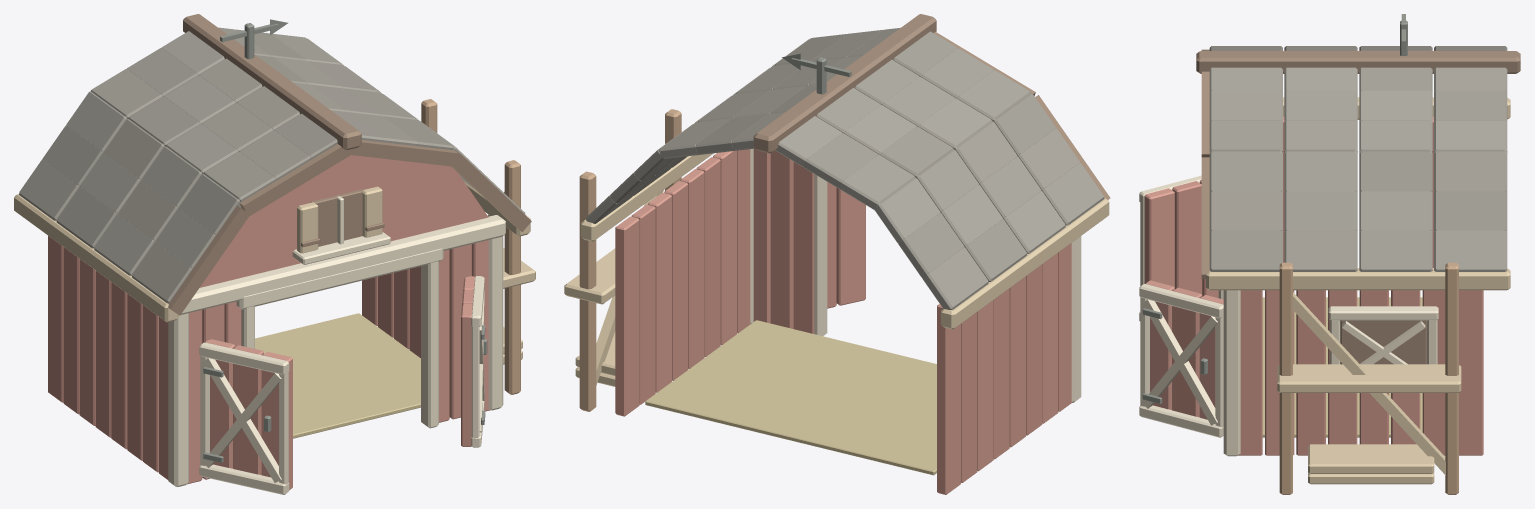
File: crafted-barn-upgrading-front.glb
3 views of the same model, side by side, from view 1: azimuth 30°, elevation 25°; view 2: azimuth 150°, elevation 25°; view 3: azimuth 270°, elevation 25° (orthographic). The views are drawn at different scales.
Visible parts, largest first — view 1: gable-1, hay-floor, header-1, ridge-cap, corner-post-1, scaffold-post-1, eave-fascia, door-frame-1, corner-post-3, door-top, siding-12, siding-15 (+69 smaller); view 2: hay-floor, siding-19, ridge-cap, siding-31, siding-11, scaffold-post, siding-30, eave-fascia, siding-20, siding-21, siding-22, siding-23 (+54 smaller); view 3: ridge-cap, eave-fascia-1, scaffold-platform, siding-19, siding-26, extension-planks-2, siding-24, roof-tile-45, roof-tile-47, roof-tile-37, roof-tile-38, roof-tile-39 (+49 smaller).
Boxes of the visible parts, x1,y1,x2,y2 form: gable-1: [199, 155, 488, 287]; hay-floor: [255, 313, 420, 438]; header-1: [181, 215, 505, 314]; ridge-cap: [183, 14, 361, 150]; corner-post-1: [168, 313, 188, 486]; scaffold-post-1: [504, 160, 520, 394]; eave-fascia: [14, 194, 178, 322]; door-frame-1: [421, 261, 438, 428]; corner-post-3: [488, 236, 503, 410]; door-top: [236, 248, 443, 309]; siding-12: [63, 247, 79, 414]; siding-15: [111, 282, 127, 449]; hay-floor: [645, 320, 936, 475]; siding-19: [615, 216, 639, 416]; ridge-cap: [753, 14, 936, 153]; siding-31: [770, 150, 793, 328]; siding-11: [937, 304, 960, 494]; scaffold-post: [579, 171, 596, 411]; siding-30: [793, 162, 814, 333]; eave-fascia: [941, 198, 1109, 329]; siding-20: [631, 204, 655, 404]; siding-21: [648, 192, 671, 392]; siding-22: [664, 181, 688, 380]; siding-23: [680, 169, 704, 368]; ridge-cap: [1196, 51, 1520, 73]; eave-fascia-1: [1206, 268, 1510, 290]; scaffold-platform: [1277, 364, 1461, 392]; siding-19: [1459, 290, 1483, 455]; siding-26: [1238, 290, 1262, 455]; extension-planks-2: [1308, 444, 1434, 473]; siding-24: [1296, 290, 1325, 455]; roof-tile-45: [1359, 230, 1432, 271]; roof-tile-47: [1209, 230, 1282, 271]; roof-tile-37: [1359, 151, 1432, 191]; roof-tile-38: [1284, 151, 1357, 191]; roof-tile-39: [1209, 151, 1282, 191].
Size of the model in its own units: 2.61 by 2.28 by 2.12.
